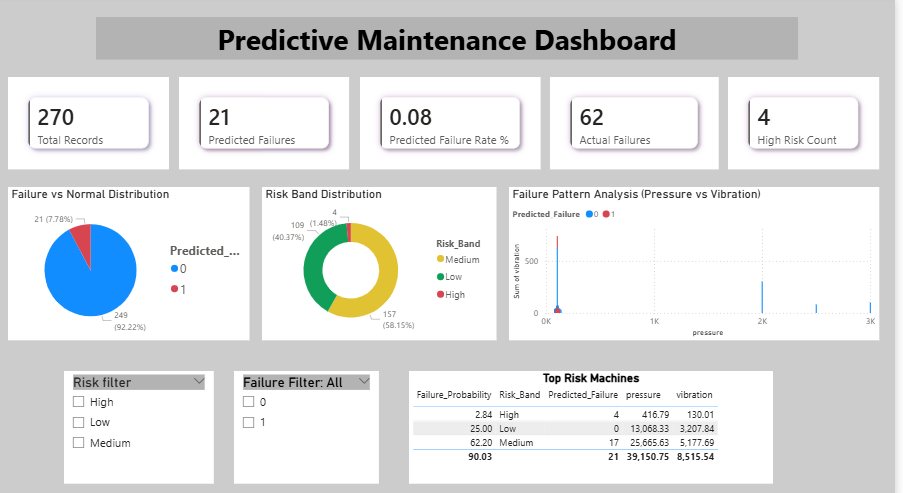

Layout of this report page (visuals, bound fields, positions):
{"tool":"powerbi","page":{"name":"Page 1","canvas":[1280,720],"ordinal":0},"visuals":[{"type":"cardVisual","fields":{"Data":["prediction_results_threshold.Total Records"]},"box":[13,111.6,230.4,131.9],"z":0},{"type":"cardVisual","fields":{"Data":["prediction_results_threshold.Predicted Failure Rate %"]},"box":[515.2,111.6,258,131.9],"z":1},{"type":"cardVisual","fields":{"Data":["prediction_results_threshold.Predicted Failures"]},"box":[257.6,111.6,243.5,131.9],"z":2},{"type":"cardVisual","fields":{"Data":["prediction_results_threshold.Actual Failures"]},"box":[787.3,111.6,240.6,131.9],"z":3},{"type":"cardVisual","fields":{"Data":["prediction_results_threshold.High Risk Count"]},"box":[1042,111.6,215.9,131.9],"z":4},{"type":"pieChart","title":"Failure vs Normal Distribution","fields":{"Category":["prediction_results_threshold.Predicted_Failure"],"Y":["CountNonNull(prediction_results_threshold.noise_level)"]},"box":[13,268.1,344.9,218.8],"z":5},{"type":"donutChart","title":"Risk Band Distribution","fields":{"Category":["prediction_results_threshold.Risk_Band"],"Y":["CountNonNull(prediction_results_threshold.pressure)"]},"box":[375.4,268.1,334.8,218.8],"z":6},{"type":"columnChart","title":"Failure Pattern Analysis (Pressure vs Vibration)","fields":{"Category":["prediction_results_threshold.pressure"],"Y":["Sum(prediction_results_threshold.vibration)"],"Series":["prediction_results_threshold.Predicted_Failure"]},"box":[729,268.1,529,218.8],"z":7},{"type":"slicer","title":"Risk Factor","fields":{"Values":["prediction_results_threshold.Risk_Band"]},"box":[92.8,531.9,214.5,160.9],"z":8},{"type":"slicer","fields":{"Values":["prediction_results_threshold.Predicted_Failure"]},"box":[336.2,531.9,207.2,160.9],"z":9},{"type":"shape","box":[139.1,26.1,1002.9,60.9],"z":10},{"type":"tableEx","title":"Top Risk Machines","fields":{"Values":["Sum(prediction_results_threshold.Failure_Probability)","prediction_results_threshold.Risk_Band","Sum(prediction_results_threshold.Predicted_Failure)","Sum(prediction_results_threshold.pressure)","Sum(prediction_results_threshold.vibration)"]},"box":[585.5,531.9,520.3,160.9],"z":11}]}

Visuals, with their boxes in screenshot pixels (x1, y1, x2, y2):
cardVisual - prediction_results_threshold.Total Records: BBox(4, 76, 166, 168)
cardVisual - prediction_results_threshold.Predicted Failure Rate %: BBox(357, 76, 538, 168)
cardVisual - prediction_results_threshold.Predicted Failures: BBox(176, 76, 347, 168)
cardVisual - prediction_results_threshold.Actual Failures: BBox(547, 76, 716, 168)
cardVisual - prediction_results_threshold.High Risk Count: BBox(726, 76, 877, 168)
"Failure vs Normal Distribution" pieChart: BBox(4, 186, 246, 339)
"Risk Band Distribution" donutChart: BBox(259, 186, 493, 339)
"Failure Pattern Analysis (Pressure vs Vibration)" columnChart: BBox(507, 186, 877, 339)
"Risk Factor" slicer: BBox(60, 371, 211, 483)
slicer - prediction_results_threshold.Predicted_Failure: BBox(231, 371, 376, 483)
shape: BBox(93, 16, 796, 59)
"Top Risk Machines" tableEx: BBox(406, 371, 771, 483)
